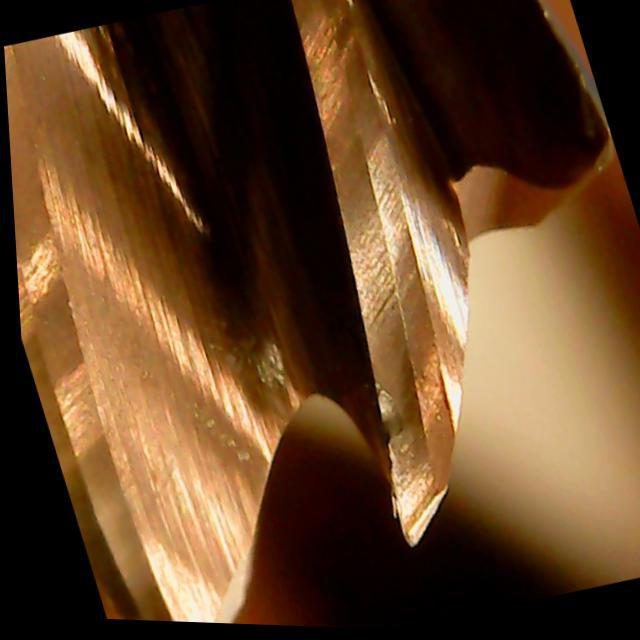Tool-wear-class-1: (290, 198, 538, 564)
